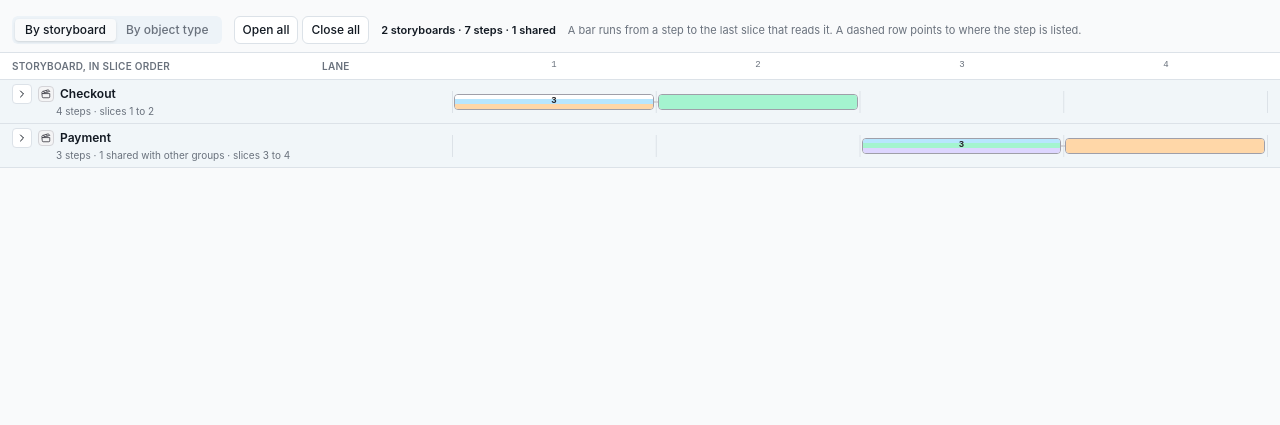
Test case: WaterfallBoard › jumps from a join row to the row that owns the step
What coordinates should you click on to do the following:
click the button named "Open Payment"
I would click on:
 (22, 138)
Its box is 12,128 -> 32,148.
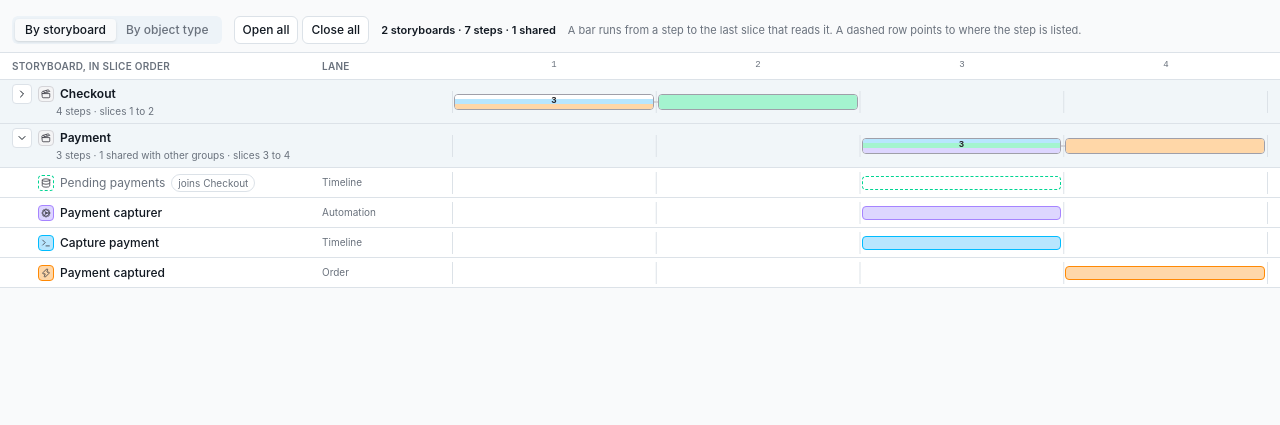
expect the text "joins Checkout" is shown: met, box 171,174 -> 255,192
What coordinates should you click on to do the following:
click the button "Pending payments"
I would click on:
 (113, 182)
Its box is 60,174 -> 165,192.
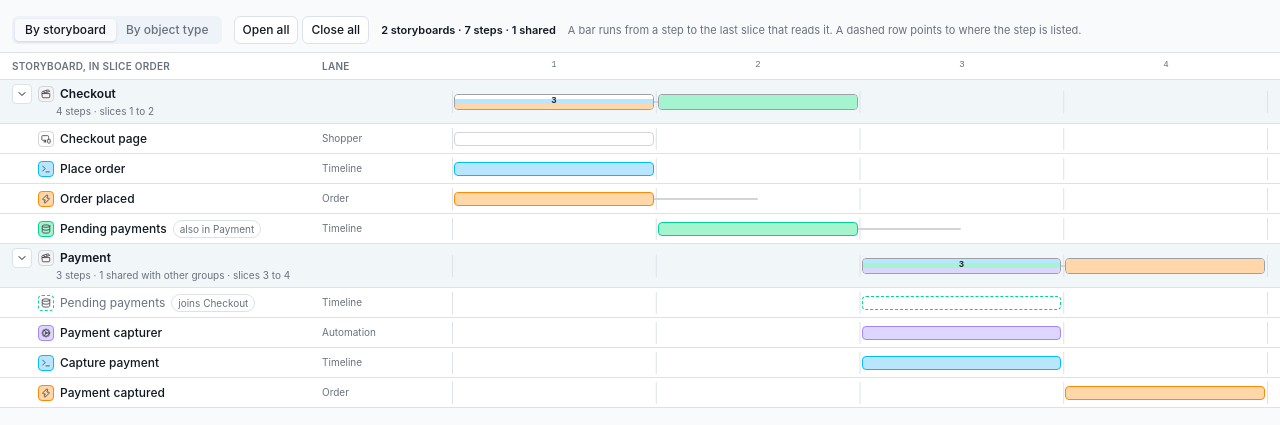
expect the button named "Close Checkout" is shown: met, box 12,84 -> 32,104
